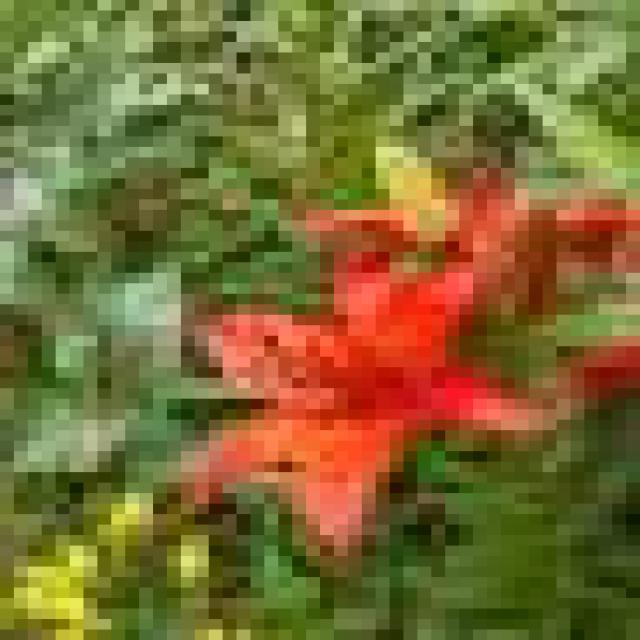lily: (146, 249, 564, 598)
